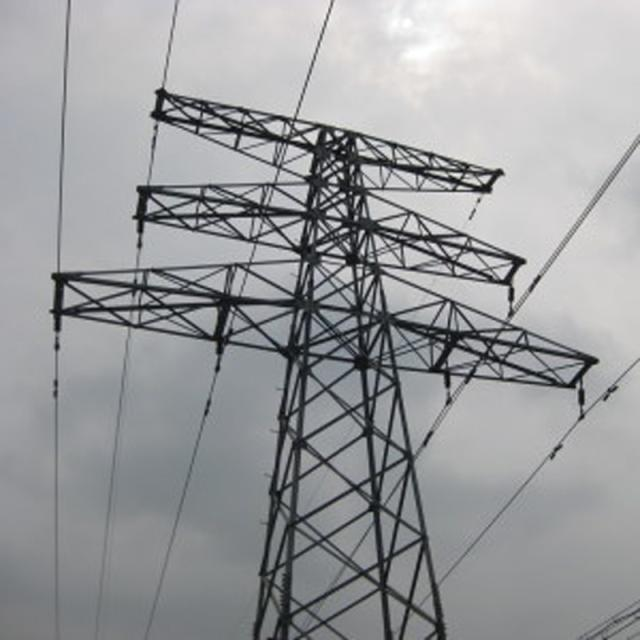non-critical vegetation: (168, 103, 515, 618)
